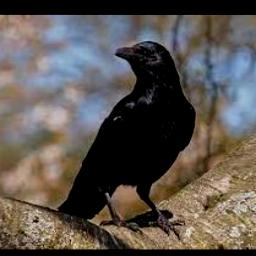Crow: (58, 41, 196, 236)
